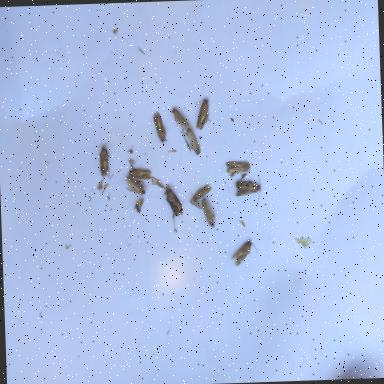pbw: (228, 176, 267, 208), (228, 236, 262, 271), (91, 138, 116, 182), (160, 179, 186, 220), (222, 152, 254, 183), (187, 180, 215, 213), (197, 194, 220, 233), (166, 98, 193, 130), (149, 107, 170, 148), (178, 124, 204, 157), (192, 96, 214, 134), (121, 174, 148, 202), (126, 158, 154, 184)
